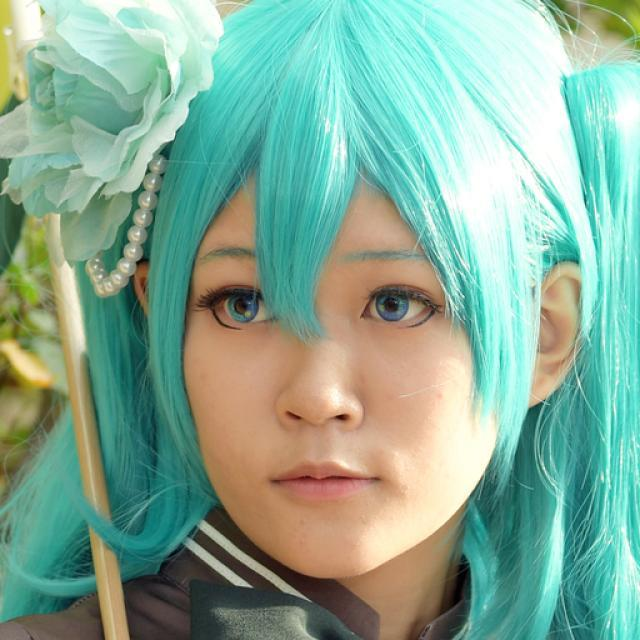sad: (179, 116, 505, 574)
